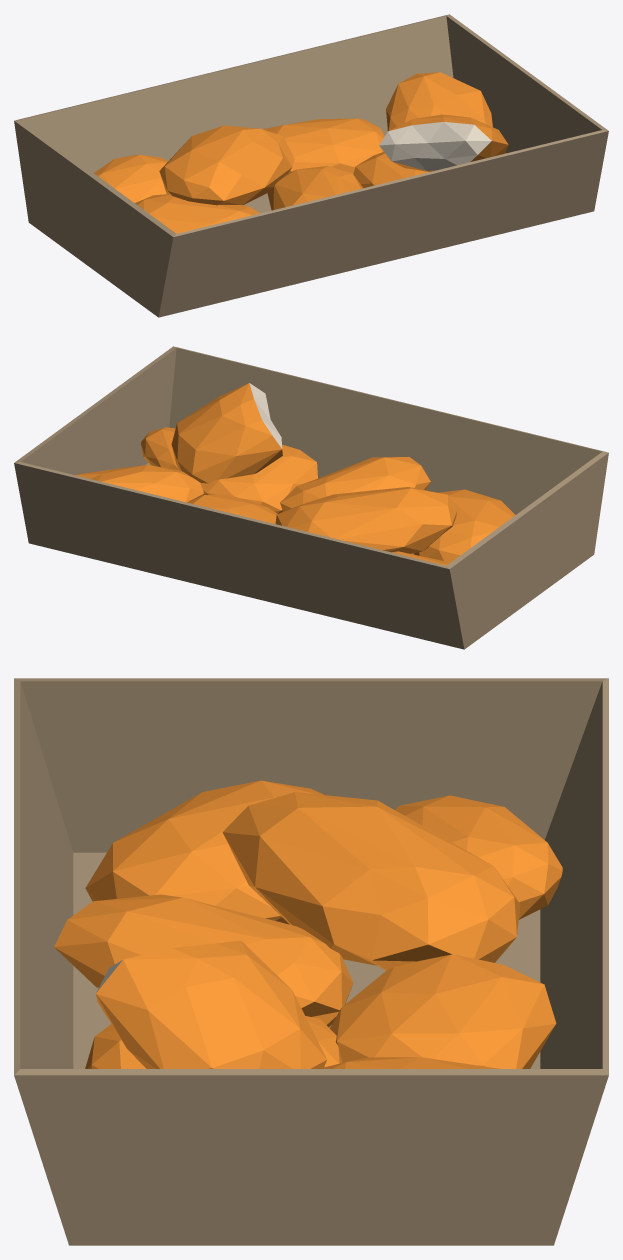
Rendered from chicken_nuggets.fbx.
3 views of the same model, one above another, from view 1: azimuth 30°, elevation 25°; view 2: azimuth 150°, elevation 25°; view 3: azimuth 270°, elevation 25° (orthographic). The views are drawn at different scales.
Visible parts, largest first — view 1: chicken nuggets; view 2: chicken nuggets; view 3: chicken nuggets.
Boxes of the visible parts, left/top/right/bottom form: chicken nuggets: left=14, top=14, right=608, bottom=317; chicken nuggets: left=14, top=346, right=608, bottom=649; chicken nuggets: left=14, top=678, right=608, bottom=1245.
Size of the model in its own units: 12.17 by 2.72 by 7.71.
